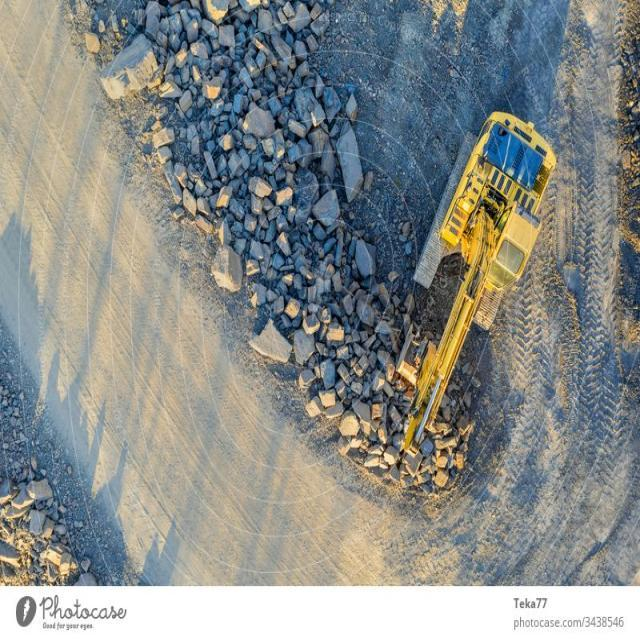excavator: (398, 112, 557, 465)
